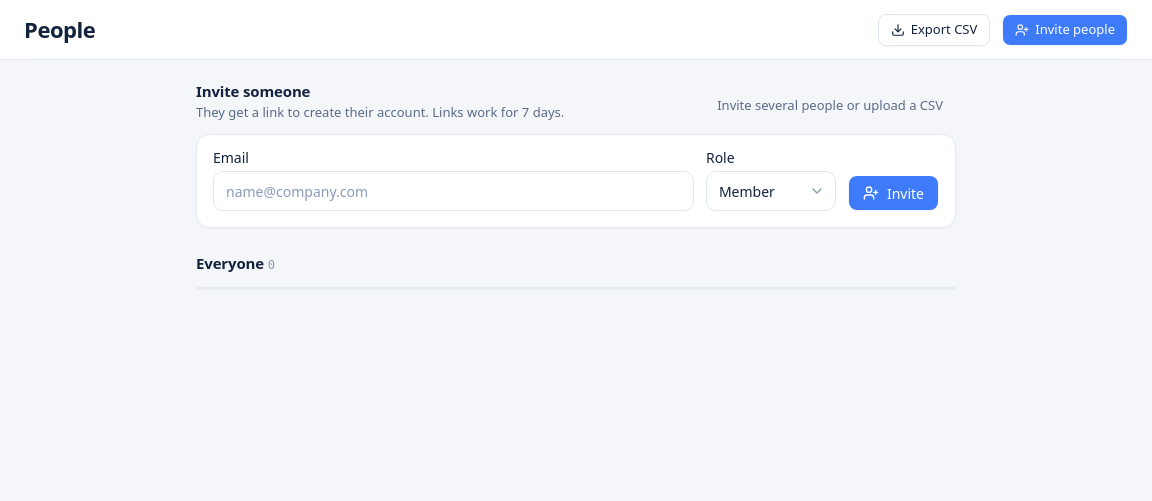
Test: invites › hosted: an invite shows only that it was emailed (no link), whoever the address is
Type "someone@x.io" into the field labelled "Email" at (453, 191), box [213,171,694,211]
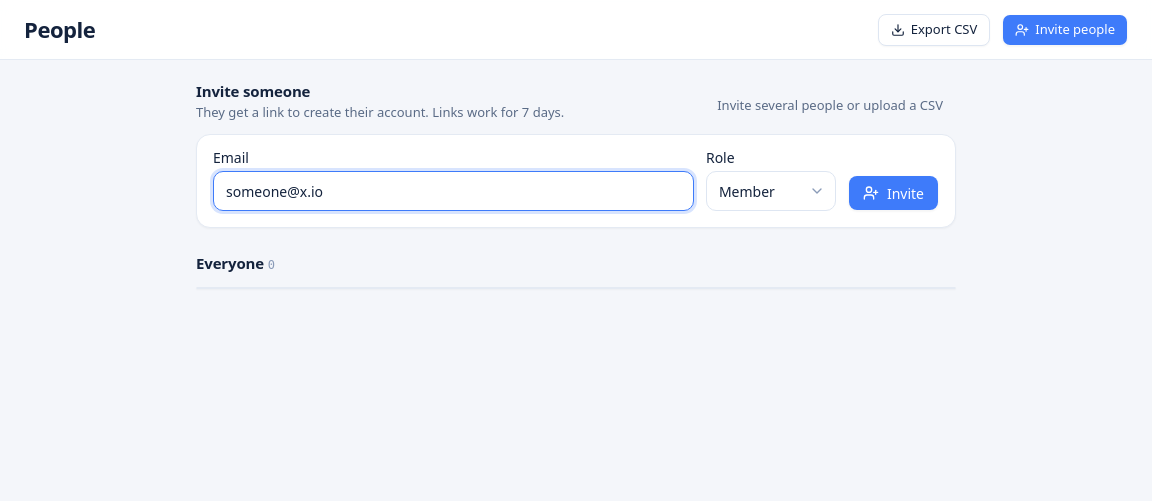
Click the button "Invite" at (893, 193), box [848,175,939,211]
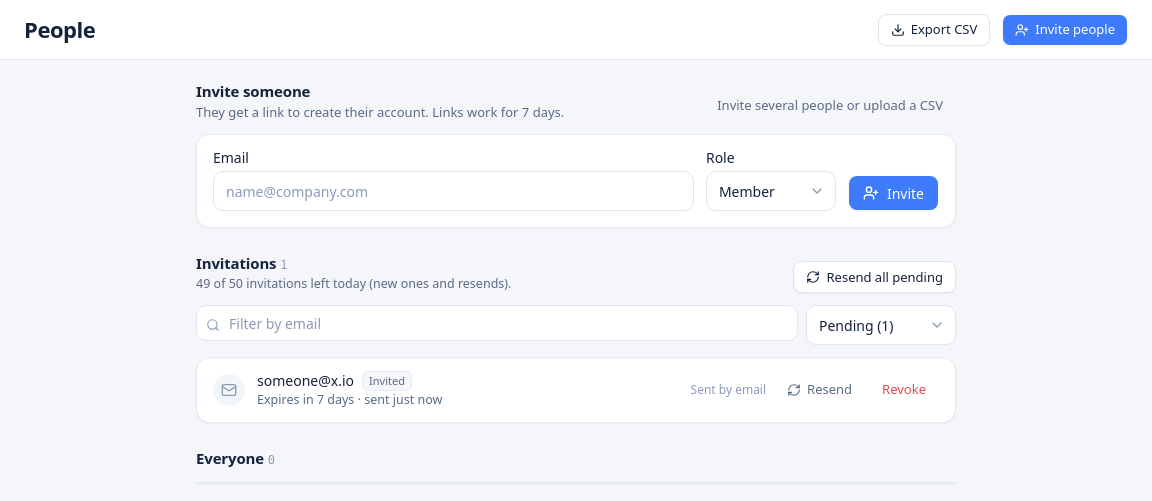
Expected: the text "Sent by email" is shown, [686,381,770,399]
